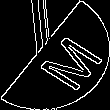M_NW: (16, 22, 94, 88)
